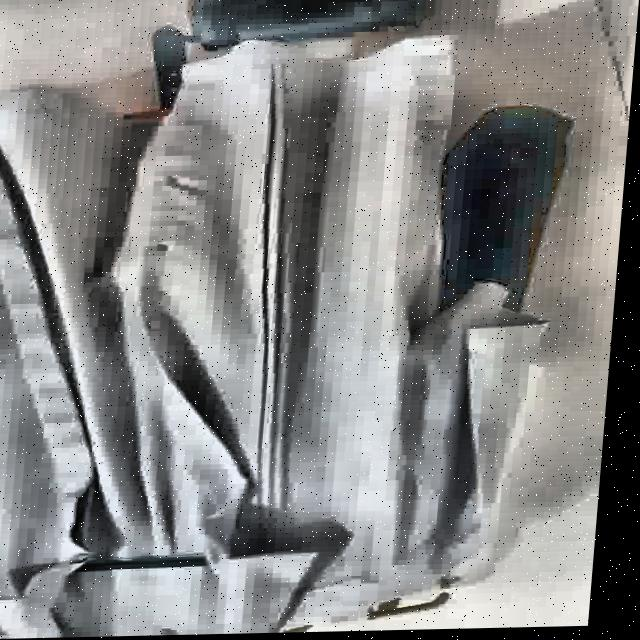clothes: (0, 19, 568, 640), (326, 0, 639, 619)
